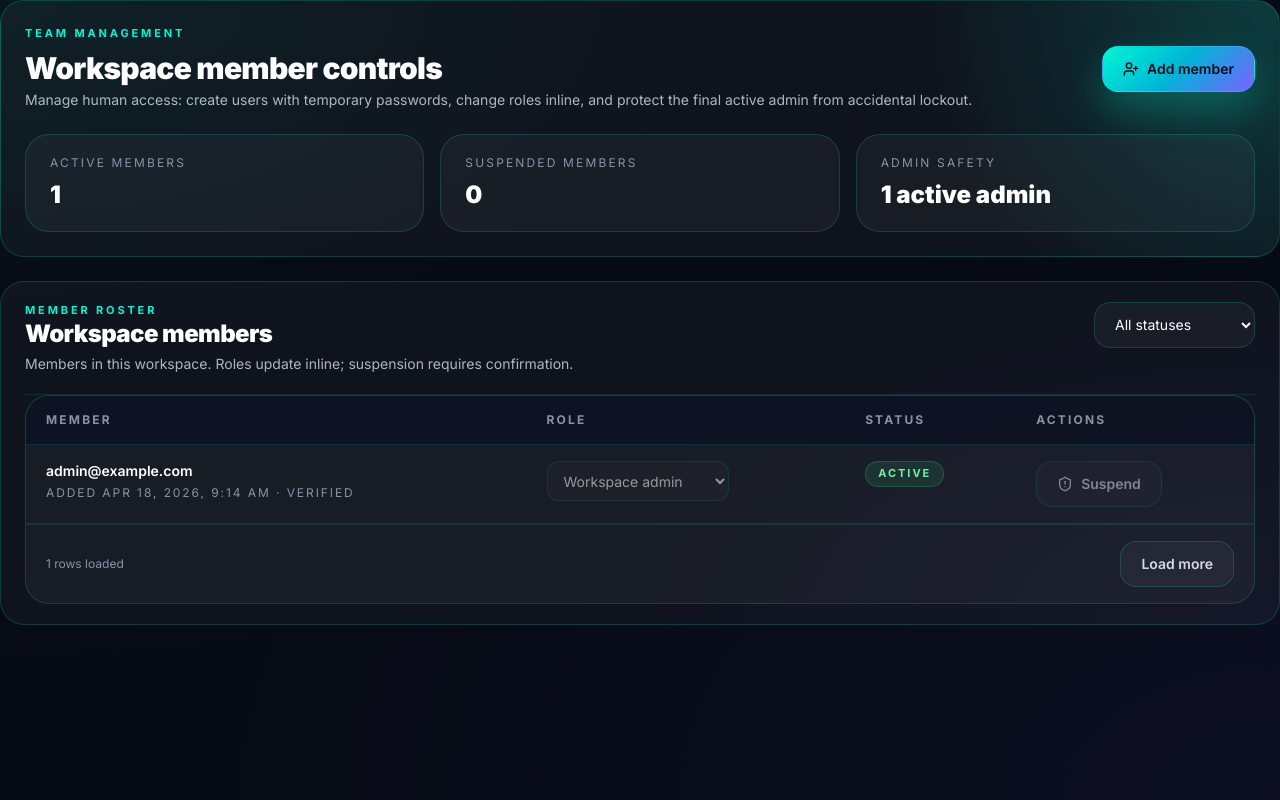
Test: MembersPage › handles pagination 'Load more' click
The width and height of the screenshot is (1280, 800).
Expected: the text "admin@example.com" is shown, [46,462,193,479]
Expected: the text "viewer@example.com" is not shown
Step 1. Click the button "Load more" → (1177, 564), box [1120,541,1234,587]
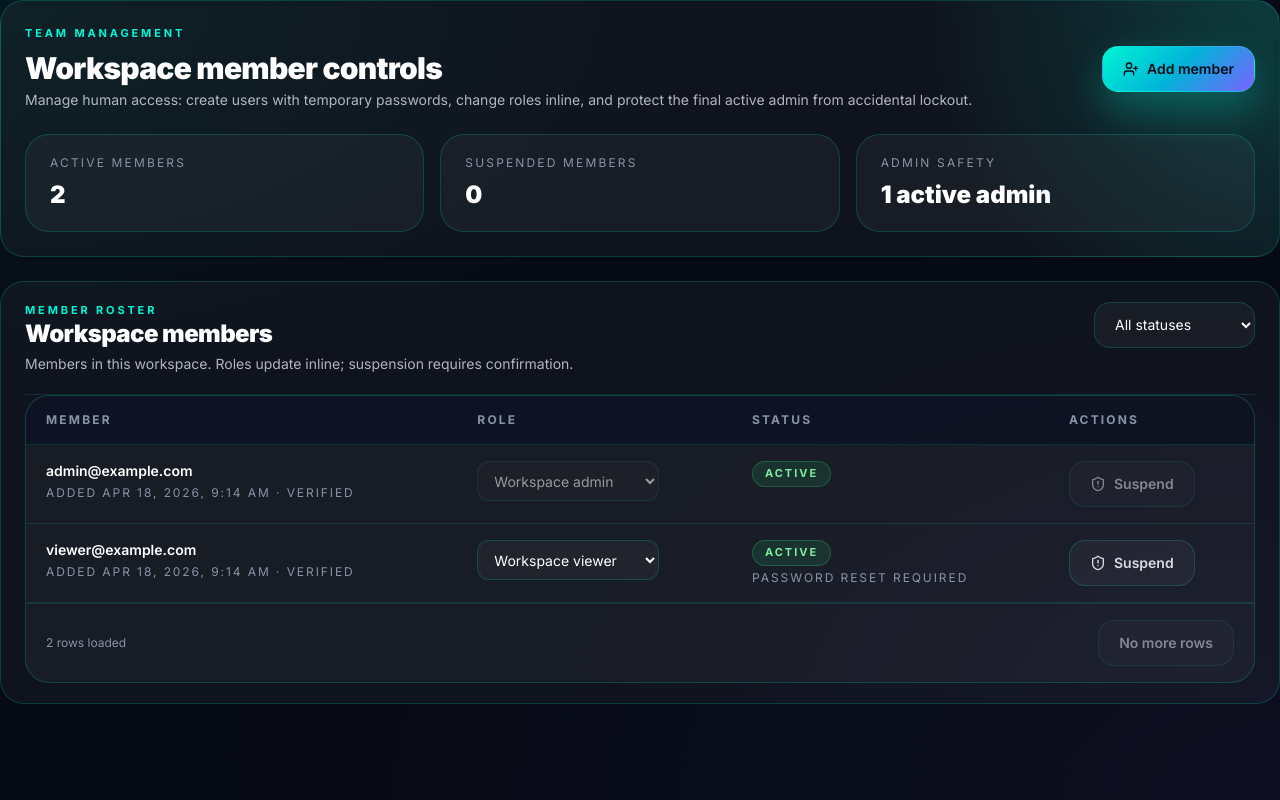
Result: the text "viewer@example.com" is shown at [46,541,196,558]
